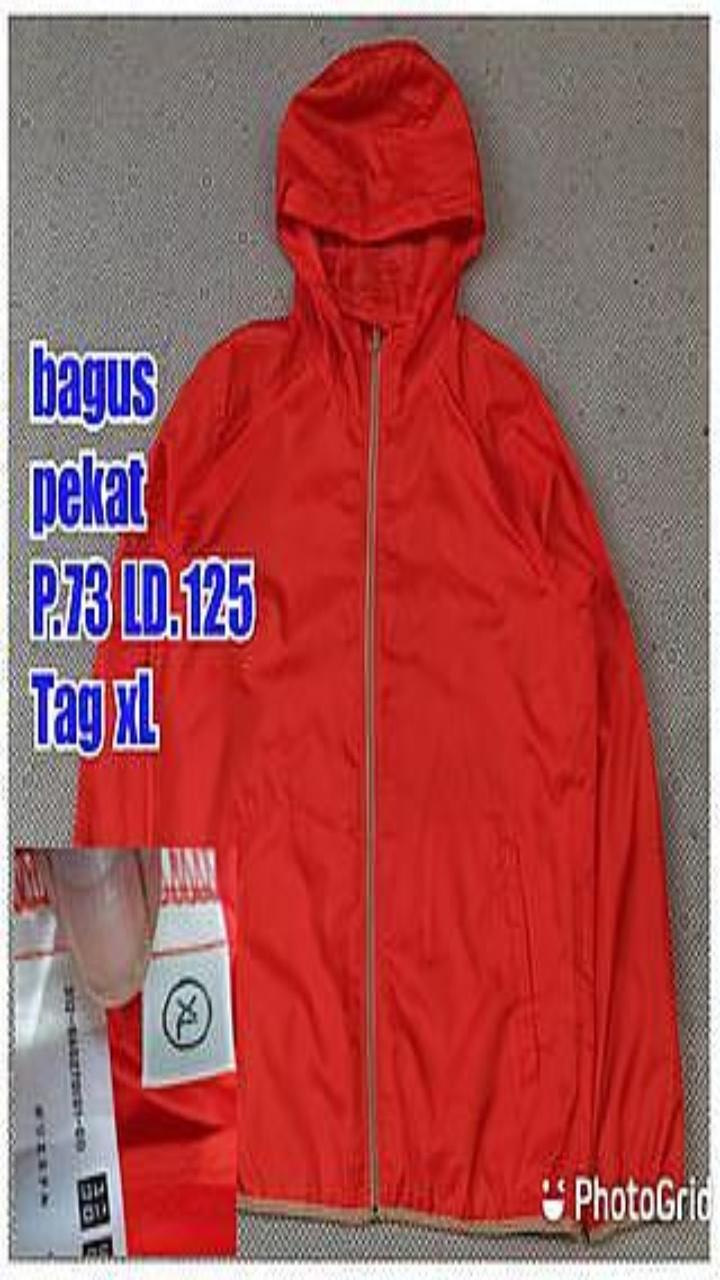Sports_Jacket: (75, 41, 681, 1226)
